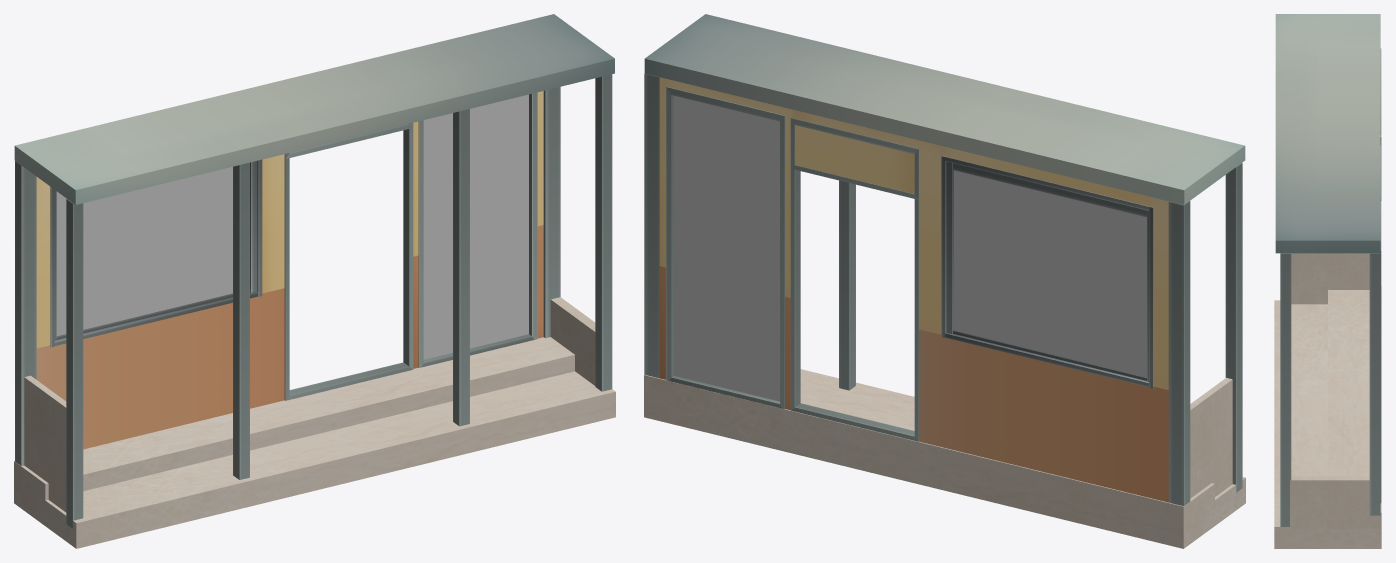
Rendered from shop_f_cafe.fbx.
3 renders of one model, left to right at view 1: azimuth 30°, elevation 25°; view 2: azimuth 150°, elevation 25°; view 3: azimuth 270°, elevation 25°, orthographic. The views are drawn at different scales.
Visible parts, largest first — view 1: shop_f_cafe; view 2: shop_f_cafe; view 3: shop_f_cafe.
Boxes of the visible parts, <box> form: shop_f_cafe: <box>14,14,615,548</box>; shop_f_cafe: <box>644,14,1245,548</box>; shop_f_cafe: <box>1274,14,1381,548</box>.
Bounding box in the file's own units: 5.41 × 3.43 × 1.08.
